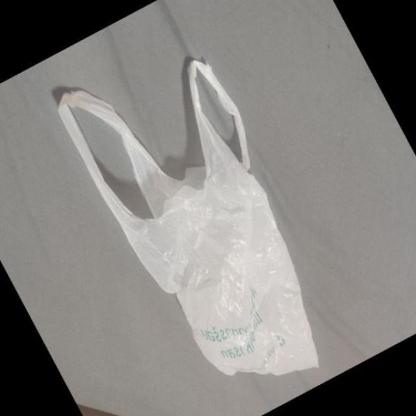Plastic Bag: (60, 58, 320, 378)
